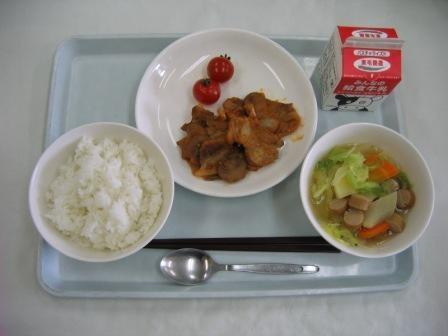Cherry tomatoes: (182, 46, 245, 104)
Meat: (176, 103, 290, 185)
Milk: (319, 22, 417, 114)
Rice: (28, 123, 163, 265)
Soups: (303, 131, 428, 258)
